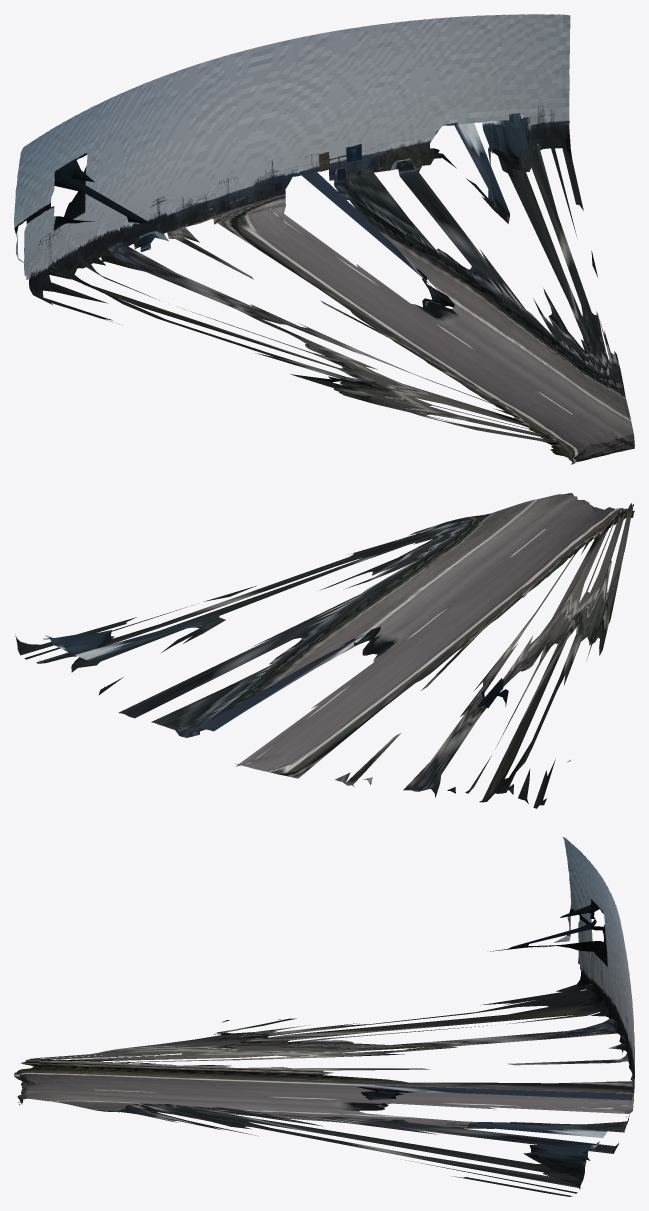
3 renders of one model, top to bottom at view 1: azimuth 30°, elevation 25°; view 2: azimuth 150°, elevation 25°; view 3: azimuth 270°, elevation 25°, orthographic. The views are drawn at different scales.
Parts seen in each view (by area): view 1: defaultobject; view 2: defaultobject; view 3: defaultobject.
Part boxes in pixels (box(x1,y1,x2,y2)): defaultobject: box(14, 14, 634, 464); defaultobject: box(15, 493, 634, 808); defaultobject: box(14, 837, 634, 1196).
Bounding box in the file's own units: 41.11 × 12.46 × 44.56.
Materials: 1 (1 with a texture image).
